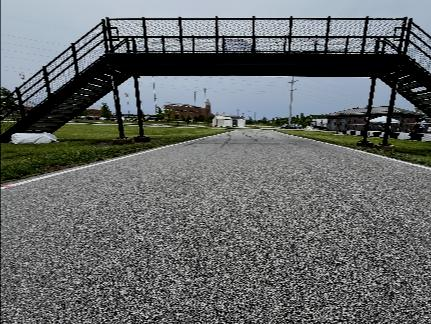Grass: (0, 124, 229, 183), (280, 130, 430, 166)
Lane: (0, 131, 430, 323)
